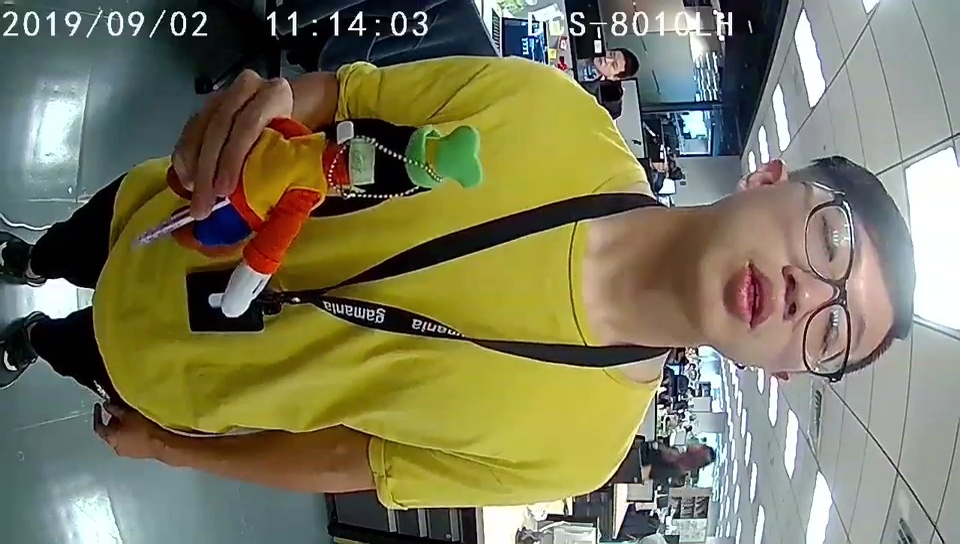goofy: (220, 117, 484, 318)
